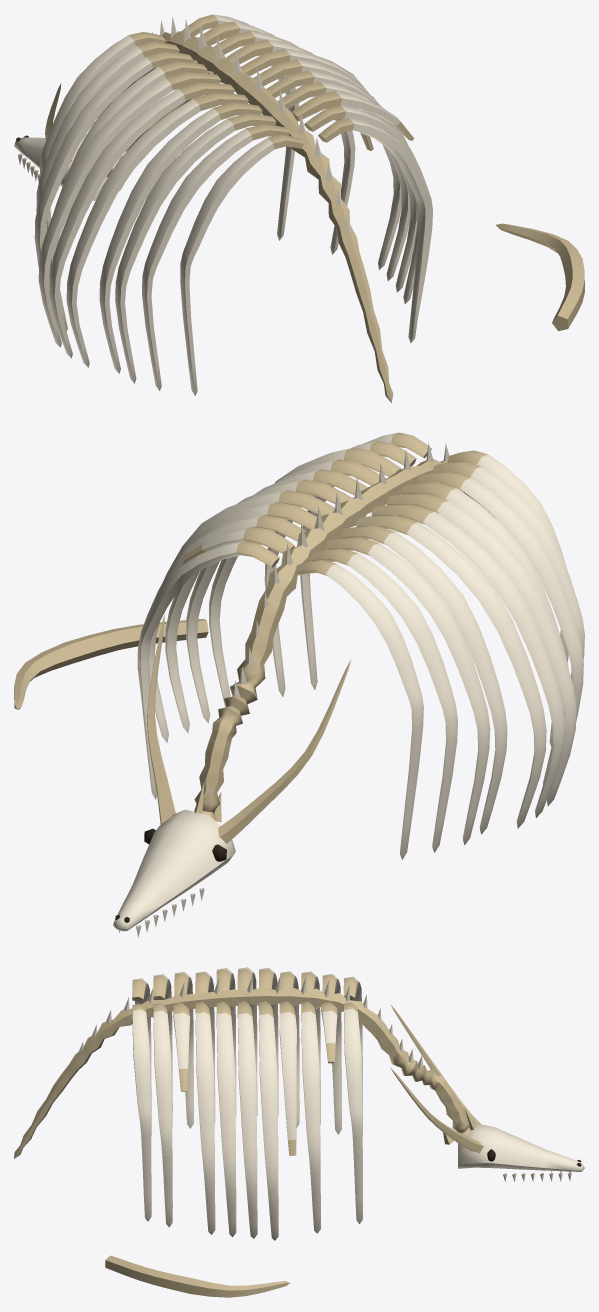
The model's file is bones_a.glb.
3 renders of one model, top to bottom at view 1: azimuth 30°, elevation 25°; view 2: azimuth 150°, elevation 25°; view 3: azimuth 270°, elevation 25°, orthographic. The views are drawn at different scales.
Visible parts, largest first — view 1: bones_a; view 2: bones_a; view 3: bones_a.
Boxes of the visible parts, left/top/right/bottom form: bones_a: left=14, top=14, right=584, bottom=402; bones_a: left=14, top=432, right=584, bottom=937; bones_a: left=14, top=967, right=584, bottom=1297.
Size of the model in its own units: 5.05 by 2.6 by 6.48.
